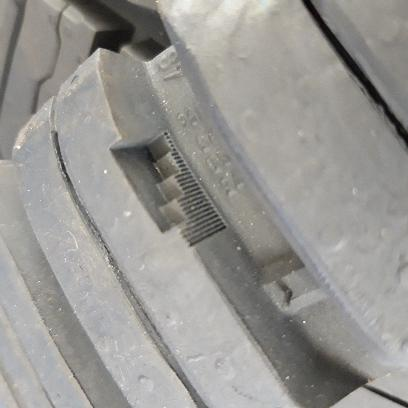temoin:100: (109, 128, 231, 253)
